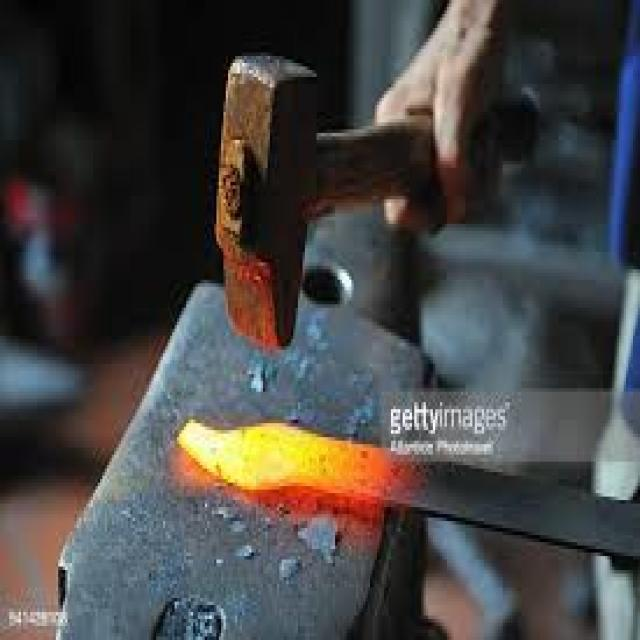hammer: (215, 45, 544, 364)
